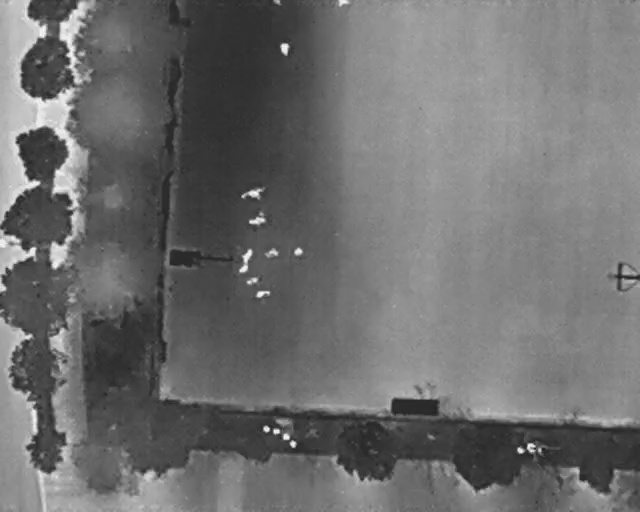Person: (237, 182, 268, 204), (246, 211, 270, 229), (237, 243, 257, 264), (243, 272, 262, 289), (234, 261, 252, 277), (262, 245, 281, 260), (290, 244, 306, 259), (255, 286, 272, 299), (279, 41, 291, 57), (337, 0, 352, 7), (272, 0, 282, 7)
